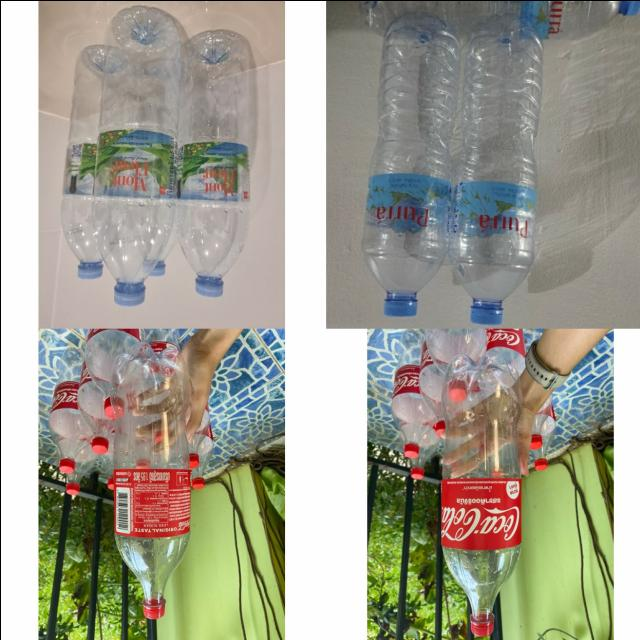plastik: (361, 13, 459, 316), (447, 14, 542, 324), (91, 5, 180, 306), (441, 350, 520, 635), (109, 341, 189, 618), (176, 30, 249, 296), (359, 0, 640, 39), (61, 44, 104, 279), (391, 329, 434, 457), (48, 348, 91, 473)
